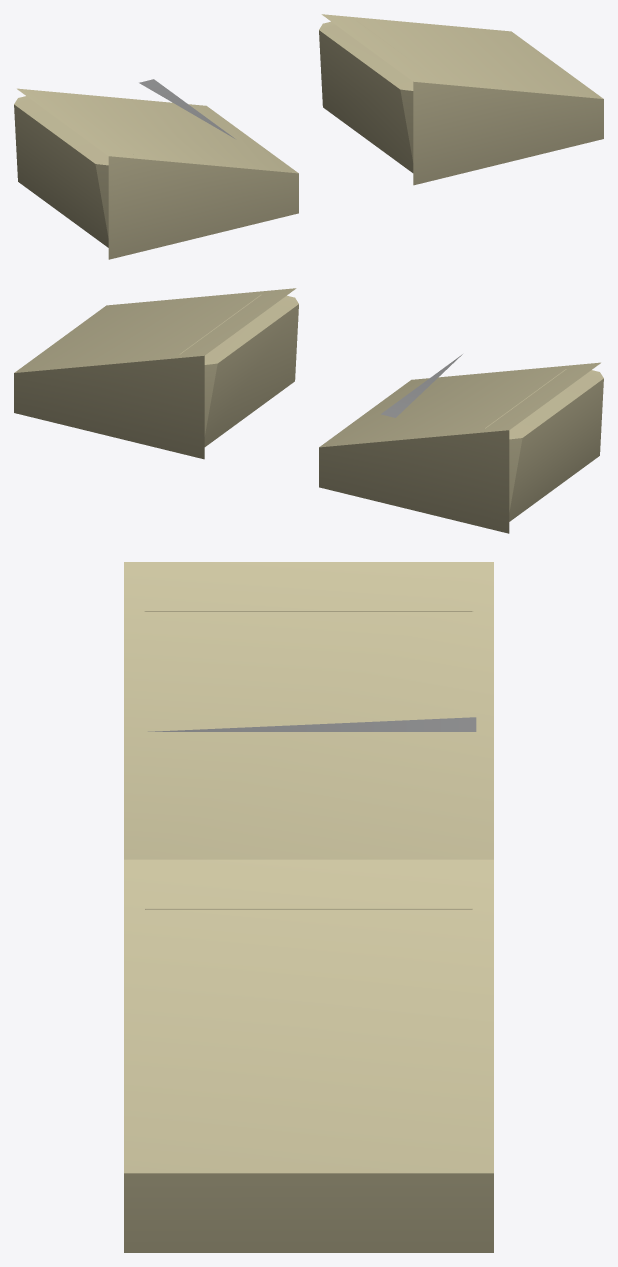
The model's file is chock.lod1.glb.
3 views of the same model, one above another, from view 1: azimuth 30°, elevation 25°; view 2: azimuth 150°, elevation 25°; view 3: azimuth 270°, elevation 25° (orthographic). The views are drawn at different scales.
Bounding box in the file's own units: 1.32 × 0.26 × 0.42.
